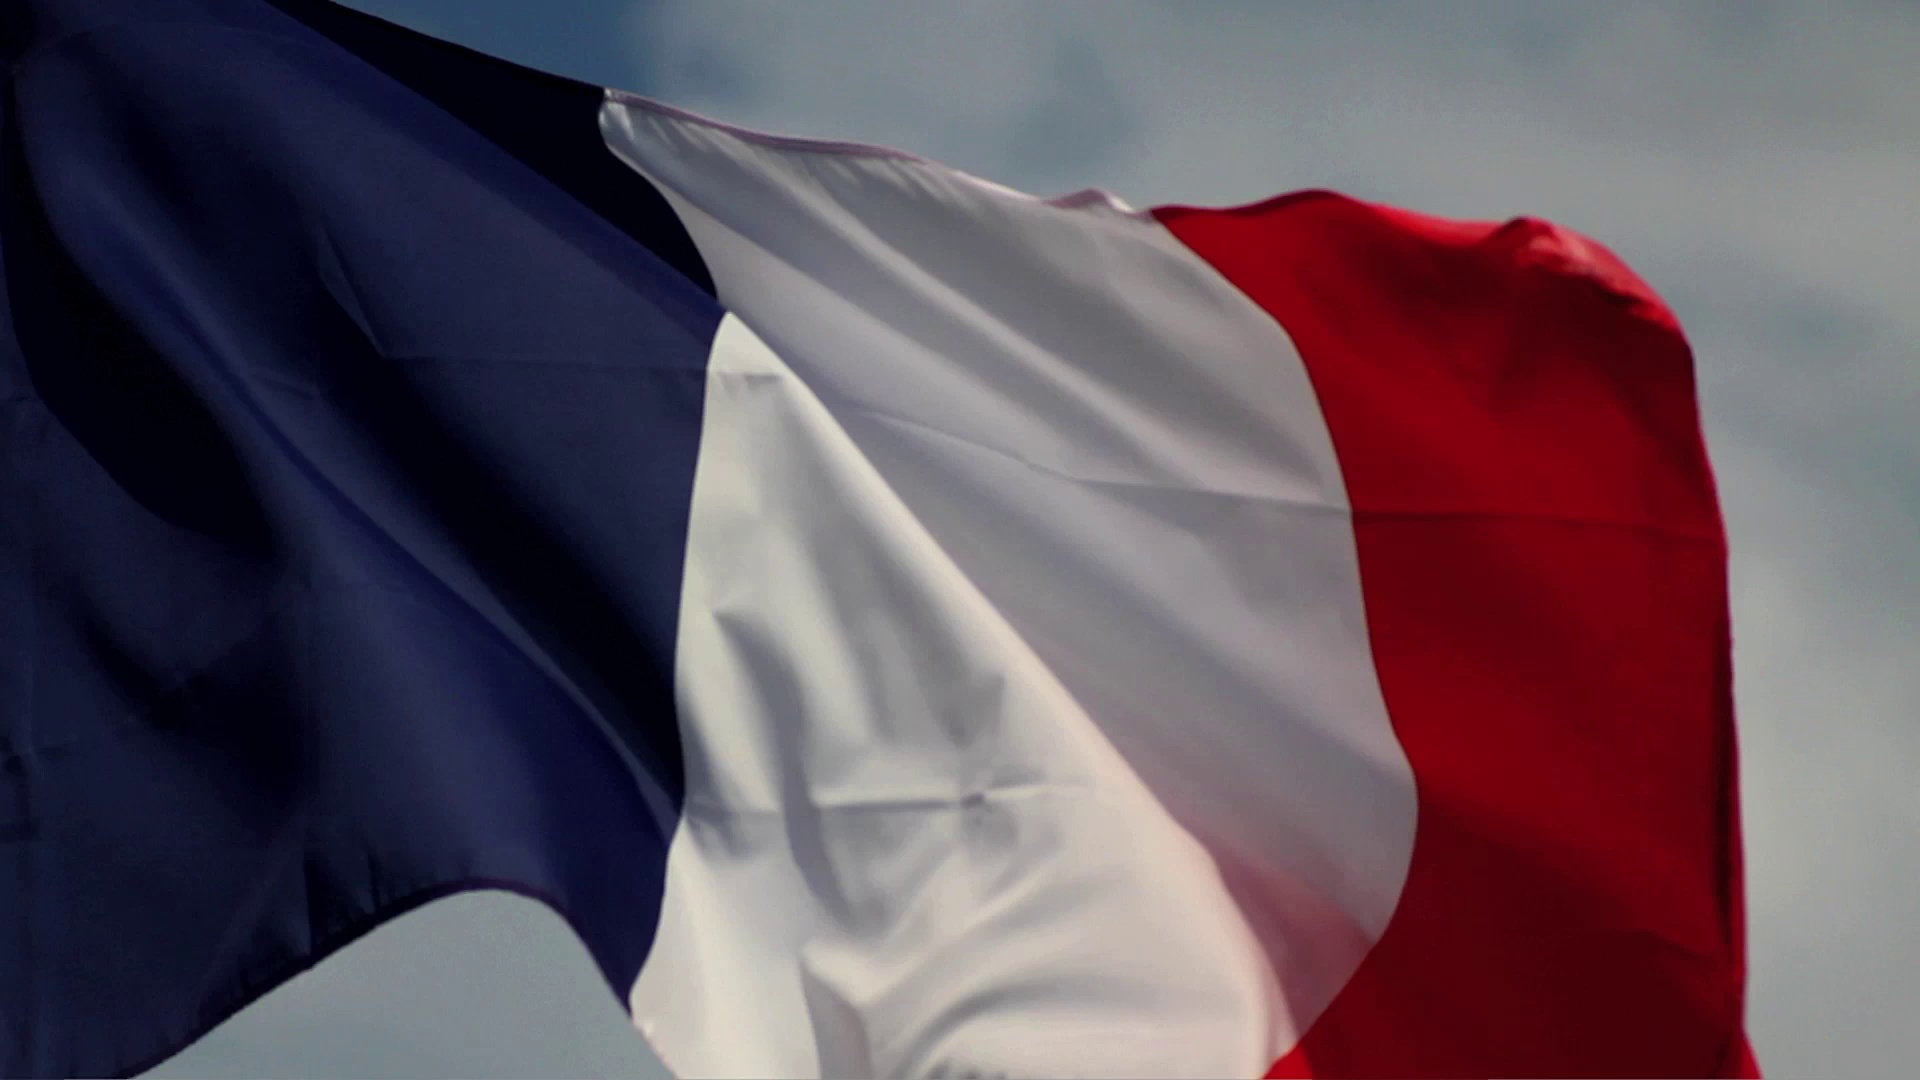French Flag: (3, 1, 1768, 1079)
